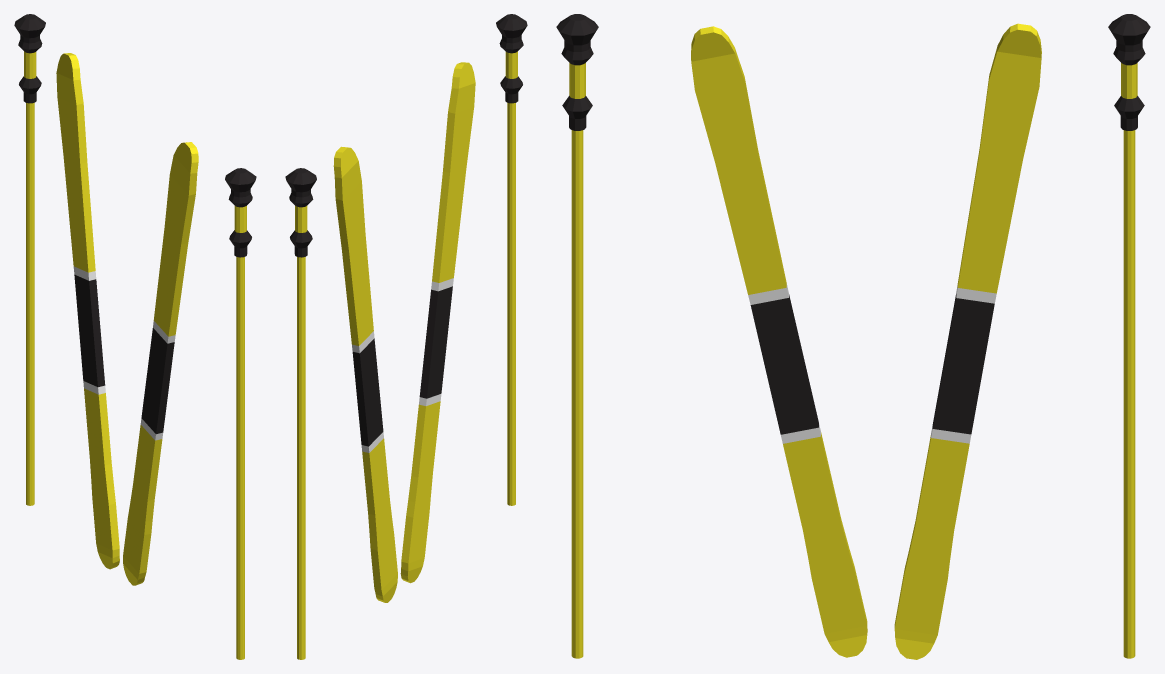
File: SkiSetYELLOW.fbx
3 views of the same model, side by side, from view 1: azimuth 30°, elevation 25°; view 2: azimuth 150°, elevation 25°; view 3: azimuth 270°, elevation 25° (orthographic). The views are drawn at different scales.
Parts seen in each view (by area): view 1: Cylinder.001; view 2: Cylinder.001; view 3: Cylinder.001.
Boxes of the visible parts, x1=… form: Cylinder.001: x1=14, y1=14, x2=256, y2=659; Cylinder.001: x1=285, y1=14, x2=527, y2=659; Cylinder.001: x1=556, y1=14, x2=1150, y2=659.
Size of the model in its own units: 28.23 by 494 by 414.
